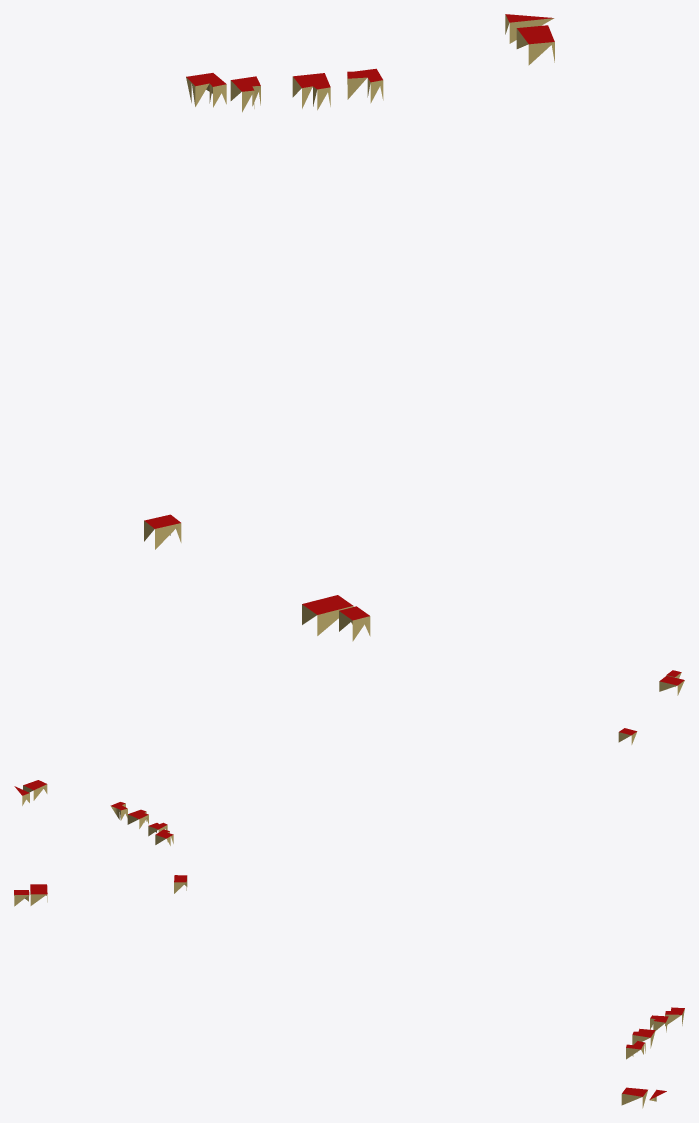
3 renders of one model, top to bottom at view 1: azimuth 30°, elevation 25°; view 2: azimuth 150°, elevation 25°; view 3: azimuth 270°, elevation 25°, orthographic. The views are drawn at different scales.
Bounding box in the file's own units: 303 × 7.5 × 381.
